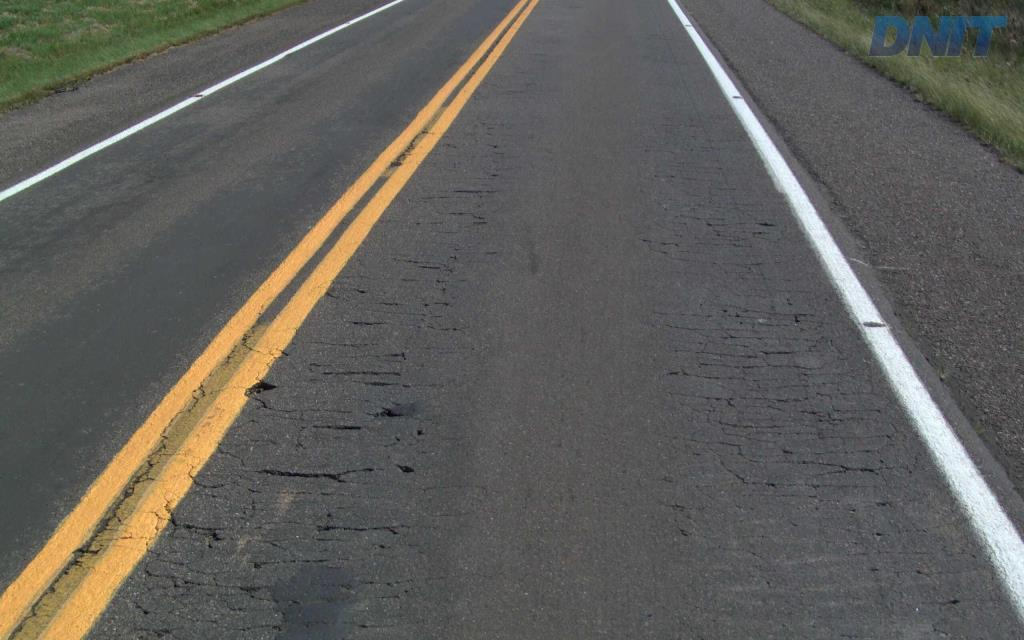crack: (797, 460, 887, 486), (253, 468, 356, 483), (366, 401, 419, 420)
